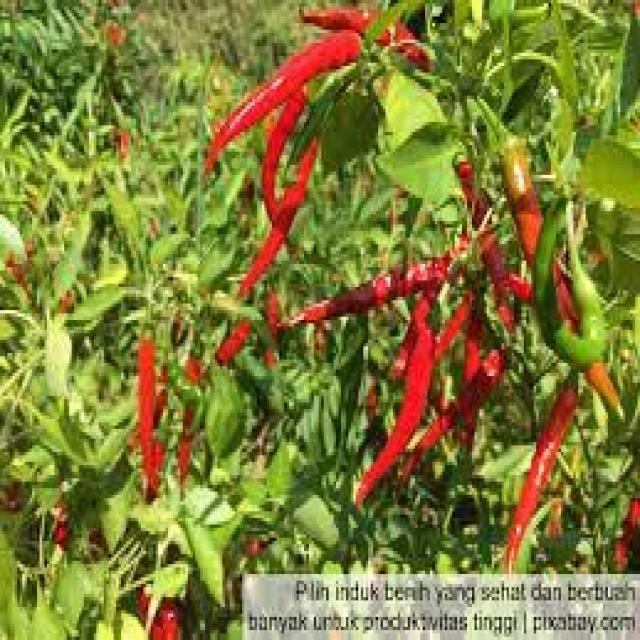sehat: (384, 120, 474, 212)
